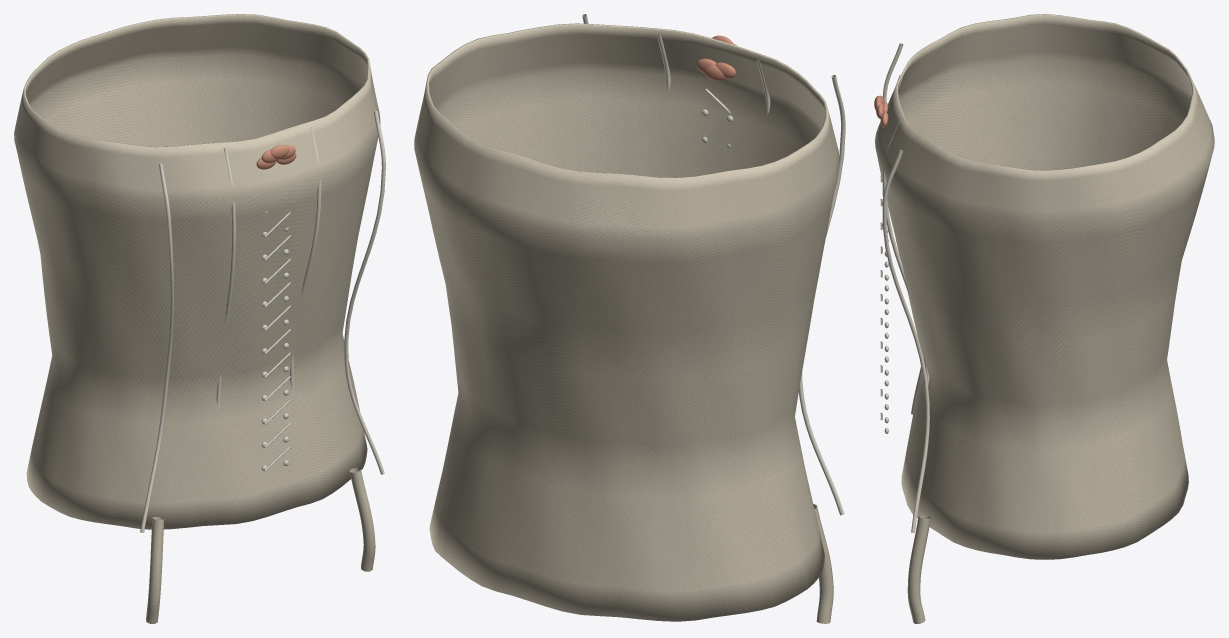
File: top-gothic.glb
The picture shows the model from 3 angles, left to right: view 1: azimuth 30°, elevation 25°; view 2: azimuth 150°, elevation 25°; view 3: azimuth 270°, elevation 25°; orthographic projection. The views are drawn at different scales.
Parts seen in each view (by area): view 1: Basque corset; view 2: Basque corset; view 3: Basque corset.
Boxes of the visible parts, x1,y1,x2,y2 form: Basque corset: [14, 14, 385, 623]; Basque corset: [414, 14, 845, 623]; Basque corset: [874, 14, 1214, 623].
Bounding box in the file's own units: 0.364 × 0.502 × 0.3246.
Materials: 4 (1 with a texture image).
